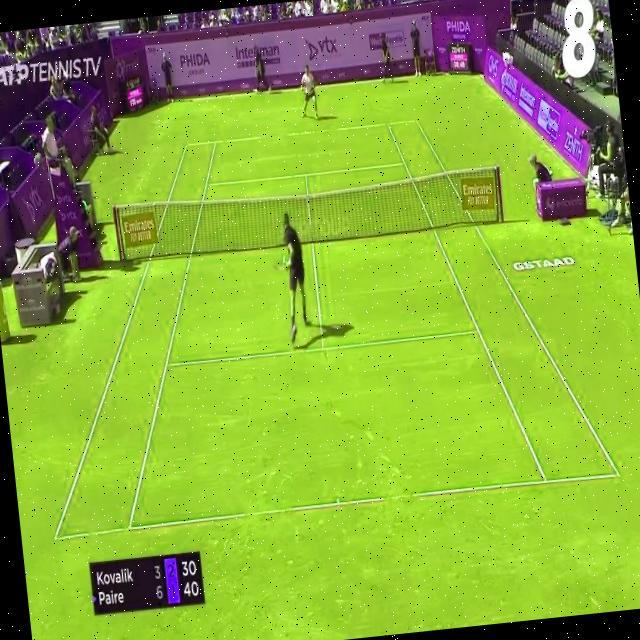court: (14, 102, 621, 540)
net: (112, 165, 506, 262)
player: (267, 210, 312, 347)
